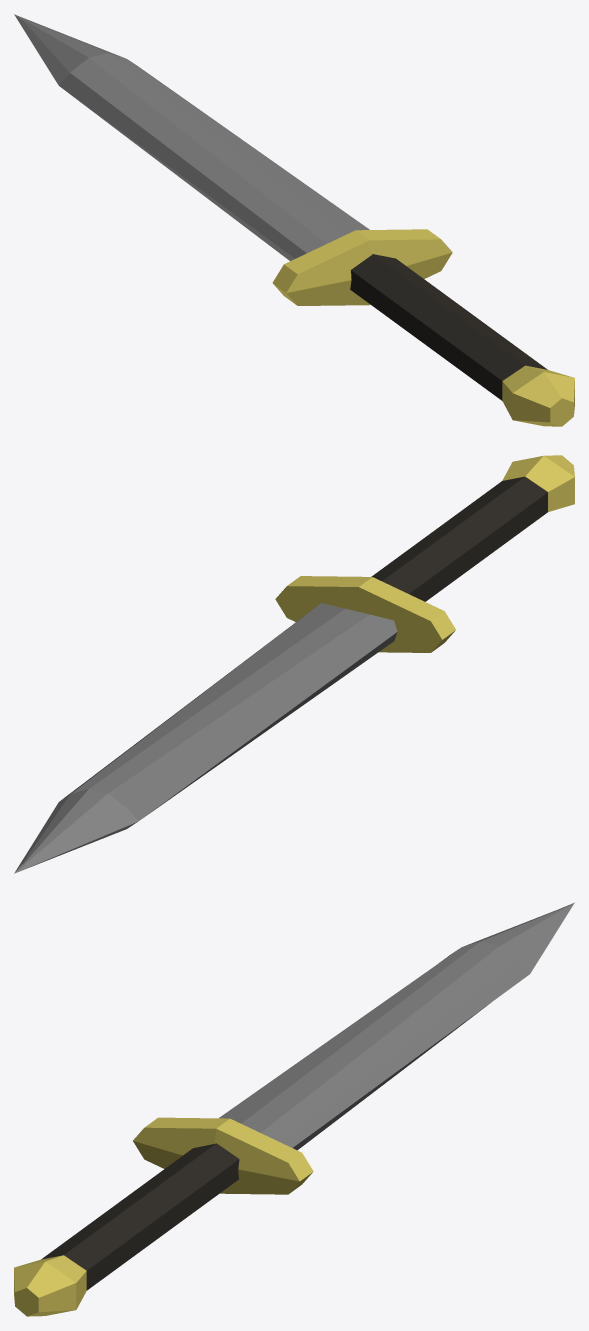
The model's file is Dagger.fbx.
3 views of the same model, one above another, from view 1: azimuth 30°, elevation 25°; view 2: azimuth 150°, elevation 25°; view 3: azimuth 330°, elevation 25° (orthographic).
Visible parts, largest first — view 1: Dagger; view 2: Dagger; view 3: Dagger.
Boxes of the visible parts, box(x1,y1,x2,y2) form: Dagger: box(14, 14, 574, 426); Dagger: box(14, 455, 574, 873); Dagger: box(14, 902, 574, 1316).
Size of the model in its own units: 12.68 by 4.71 by 72.11.
